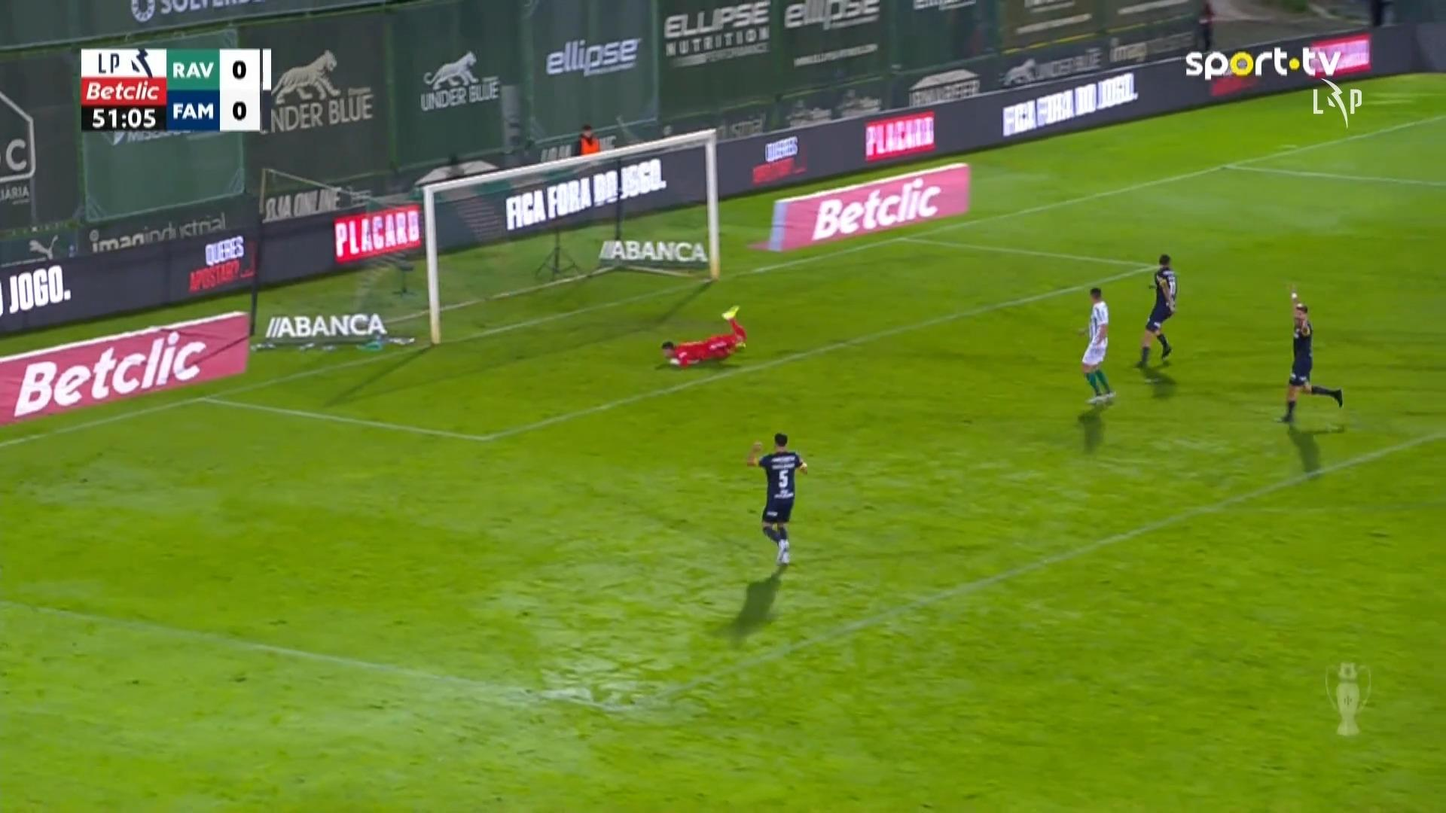goalkeeper: (658, 304, 748, 370)
player: (1274, 289, 1344, 423), (745, 431, 808, 565), (1134, 252, 1178, 367), (1076, 286, 1115, 405)
